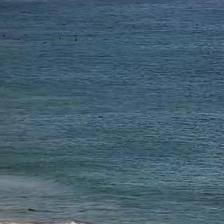surfer: (14, 38, 21, 42), (2, 33, 6, 38), (74, 38, 78, 42), (58, 38, 62, 42), (74, 34, 78, 38)
